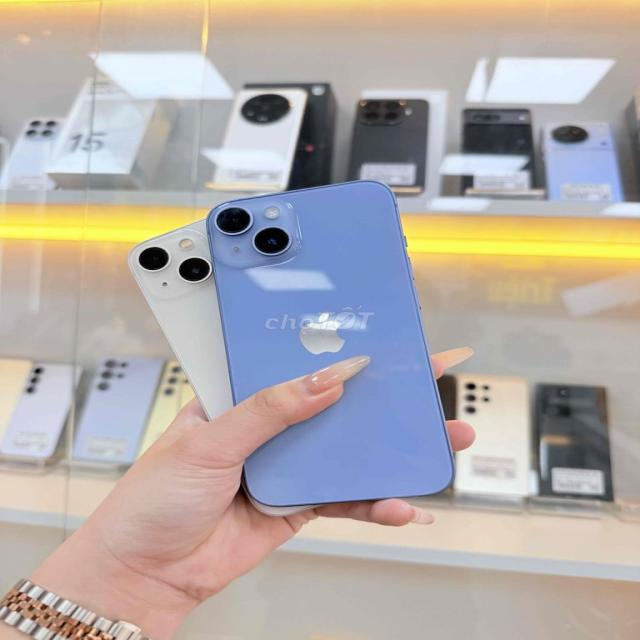gen_14: (208, 175, 463, 510)
